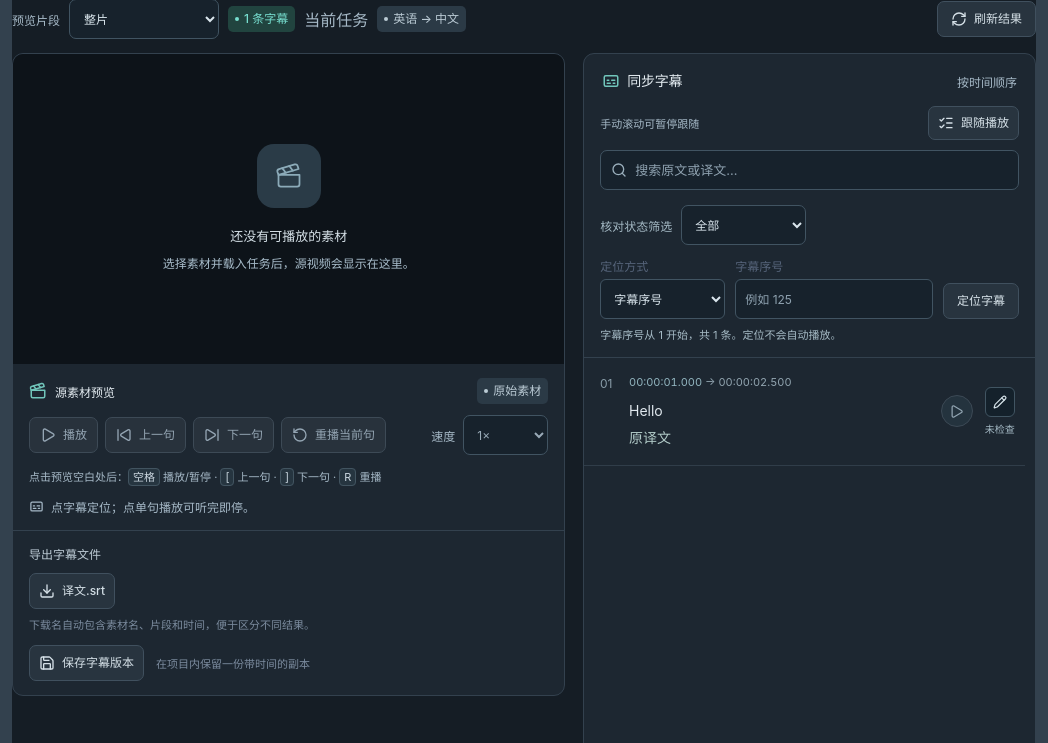
字幕导出与核对保存的并发回执 › version finishes after a cue save without leaving controls locked (success)
This screenshot has width=1048, height=743.
Click the button "保存字幕版本" at (86, 663), box [29, 645, 144, 681]
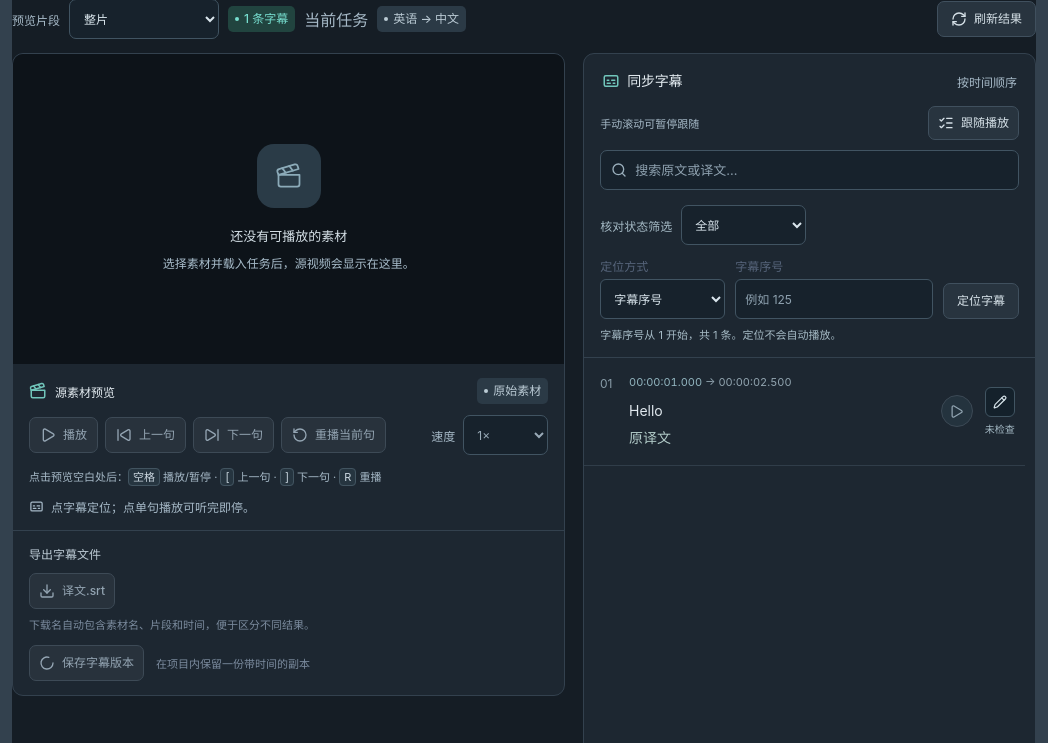
Click the button named "编辑第 1 句" at (1000, 402), box [985, 386, 1015, 416]
(page scrolled)
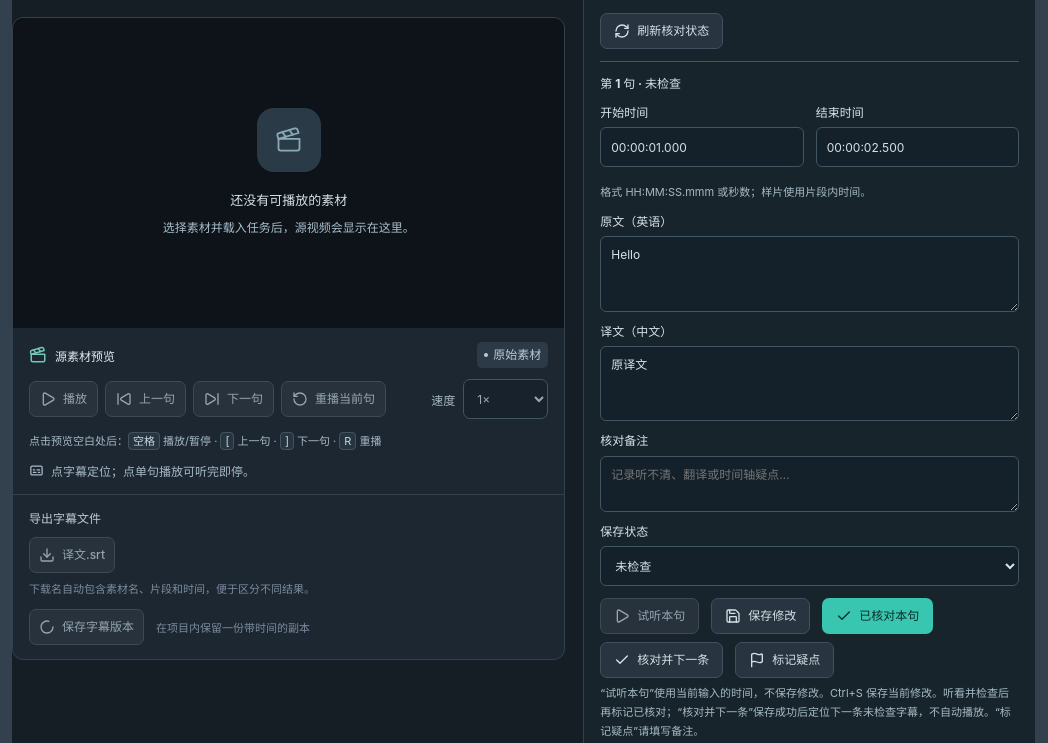
Replace the text in the text box labelled "译文（中文）" with "新译文" at (810, 384), box [600, 346, 1019, 422]
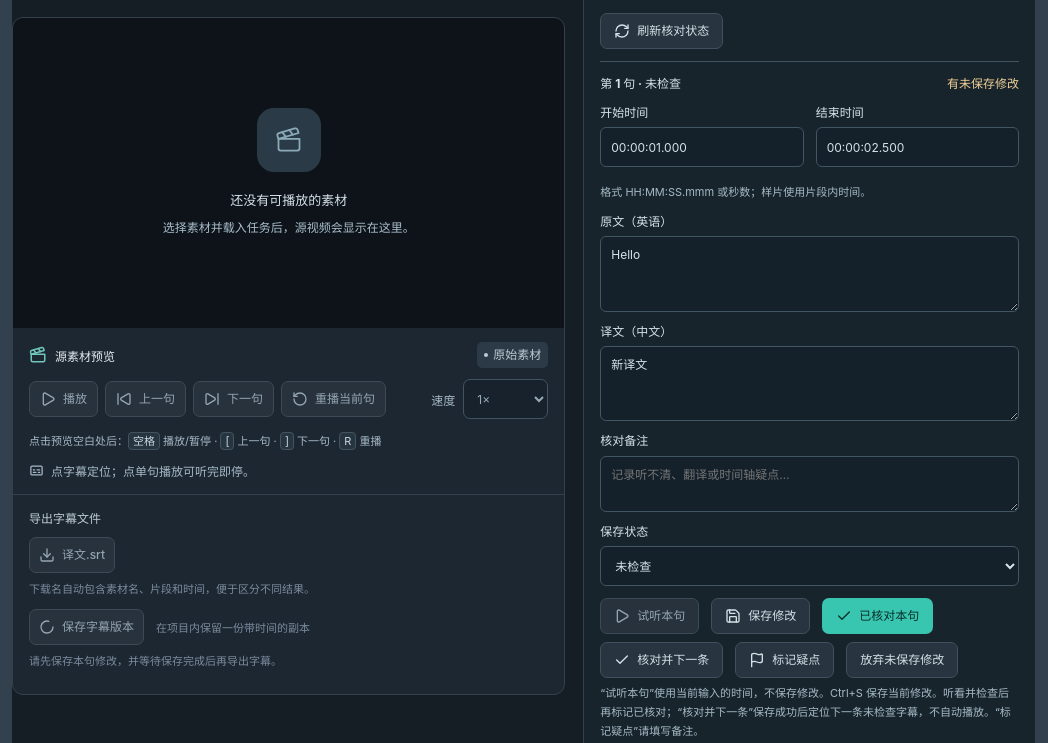
Click the button "保存修改" at (761, 616), box [711, 598, 810, 634]
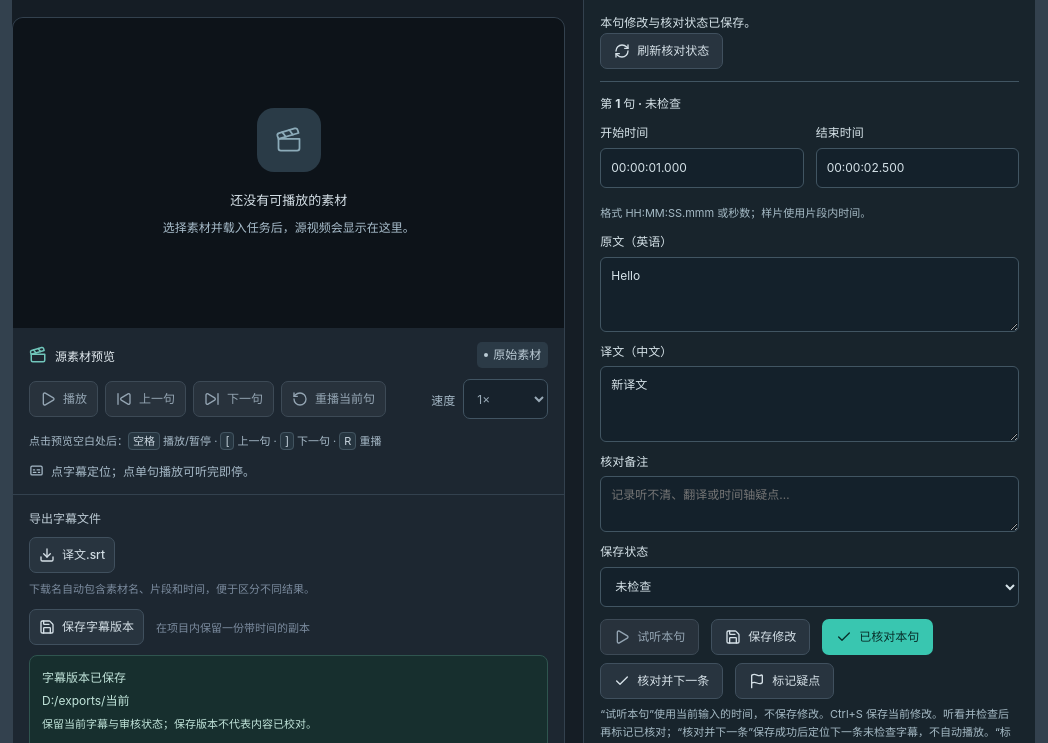
Expected: the text "本句修改与核对状态已保存。" is shown, [600, 15, 756, 30]
Expected: the button with aria-label "下载 译文.srt SRT" is enabled, [29, 537, 115, 573]
Expected: the button "保存字幕版本" is enabled, [29, 609, 144, 645]
